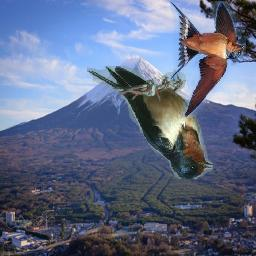Swallow: (87, 67, 213, 180), (170, 1, 246, 117)
